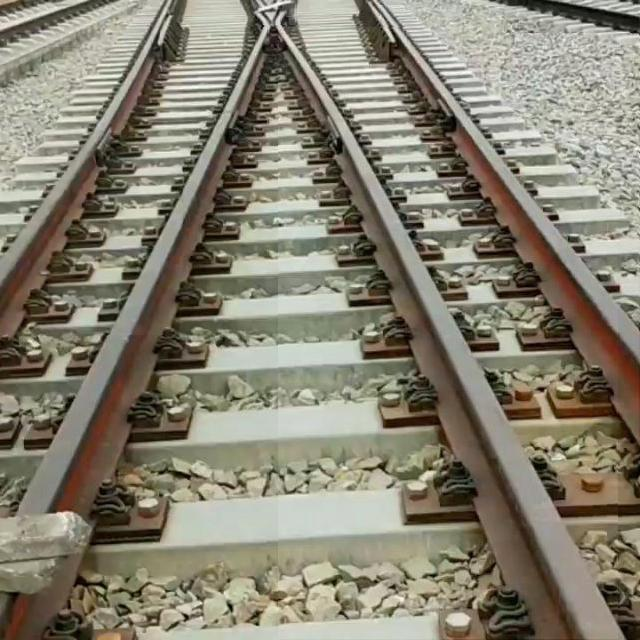rail: (280, 28, 619, 640), (20, 28, 269, 517), (382, 7, 640, 442), (1, 1, 184, 336), (1, 1, 111, 48), (505, 1, 640, 34), (253, 1, 297, 26)
